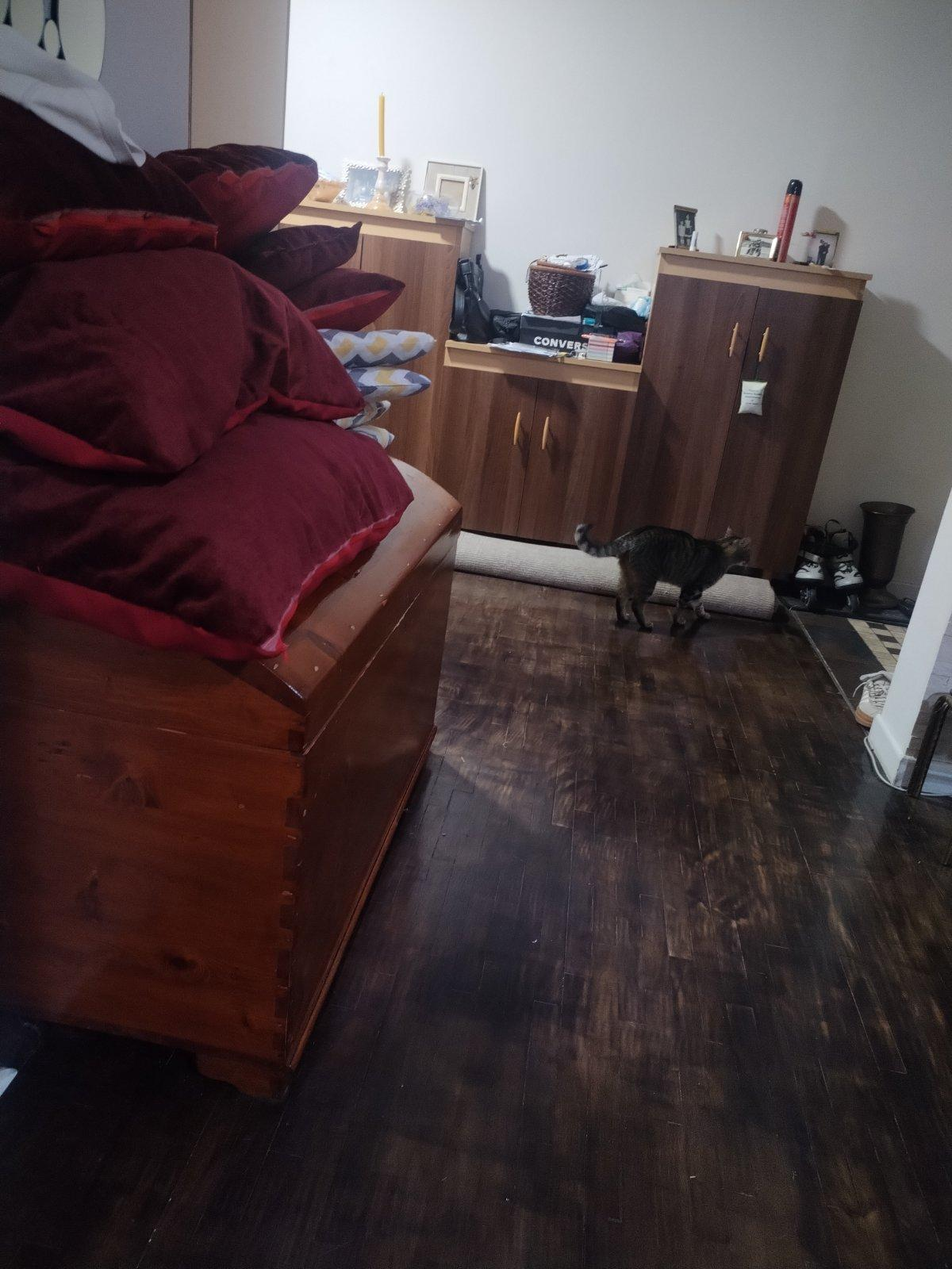macka: (573, 521, 755, 635)
